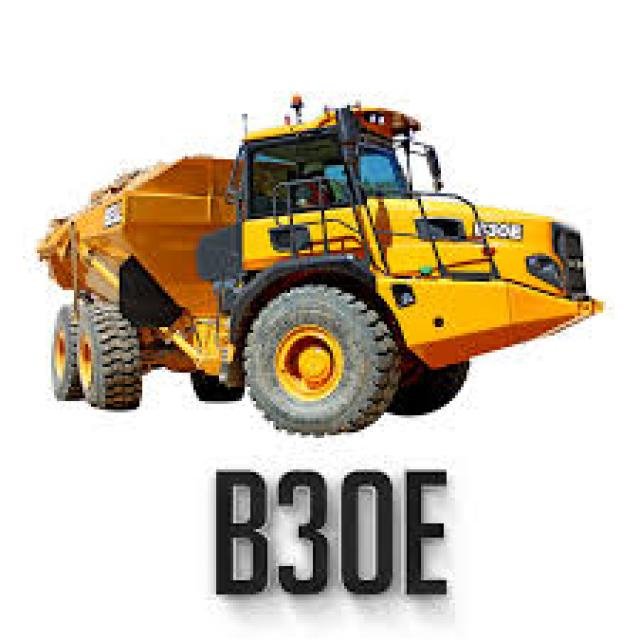dump_truck: (26, 88, 603, 455)
